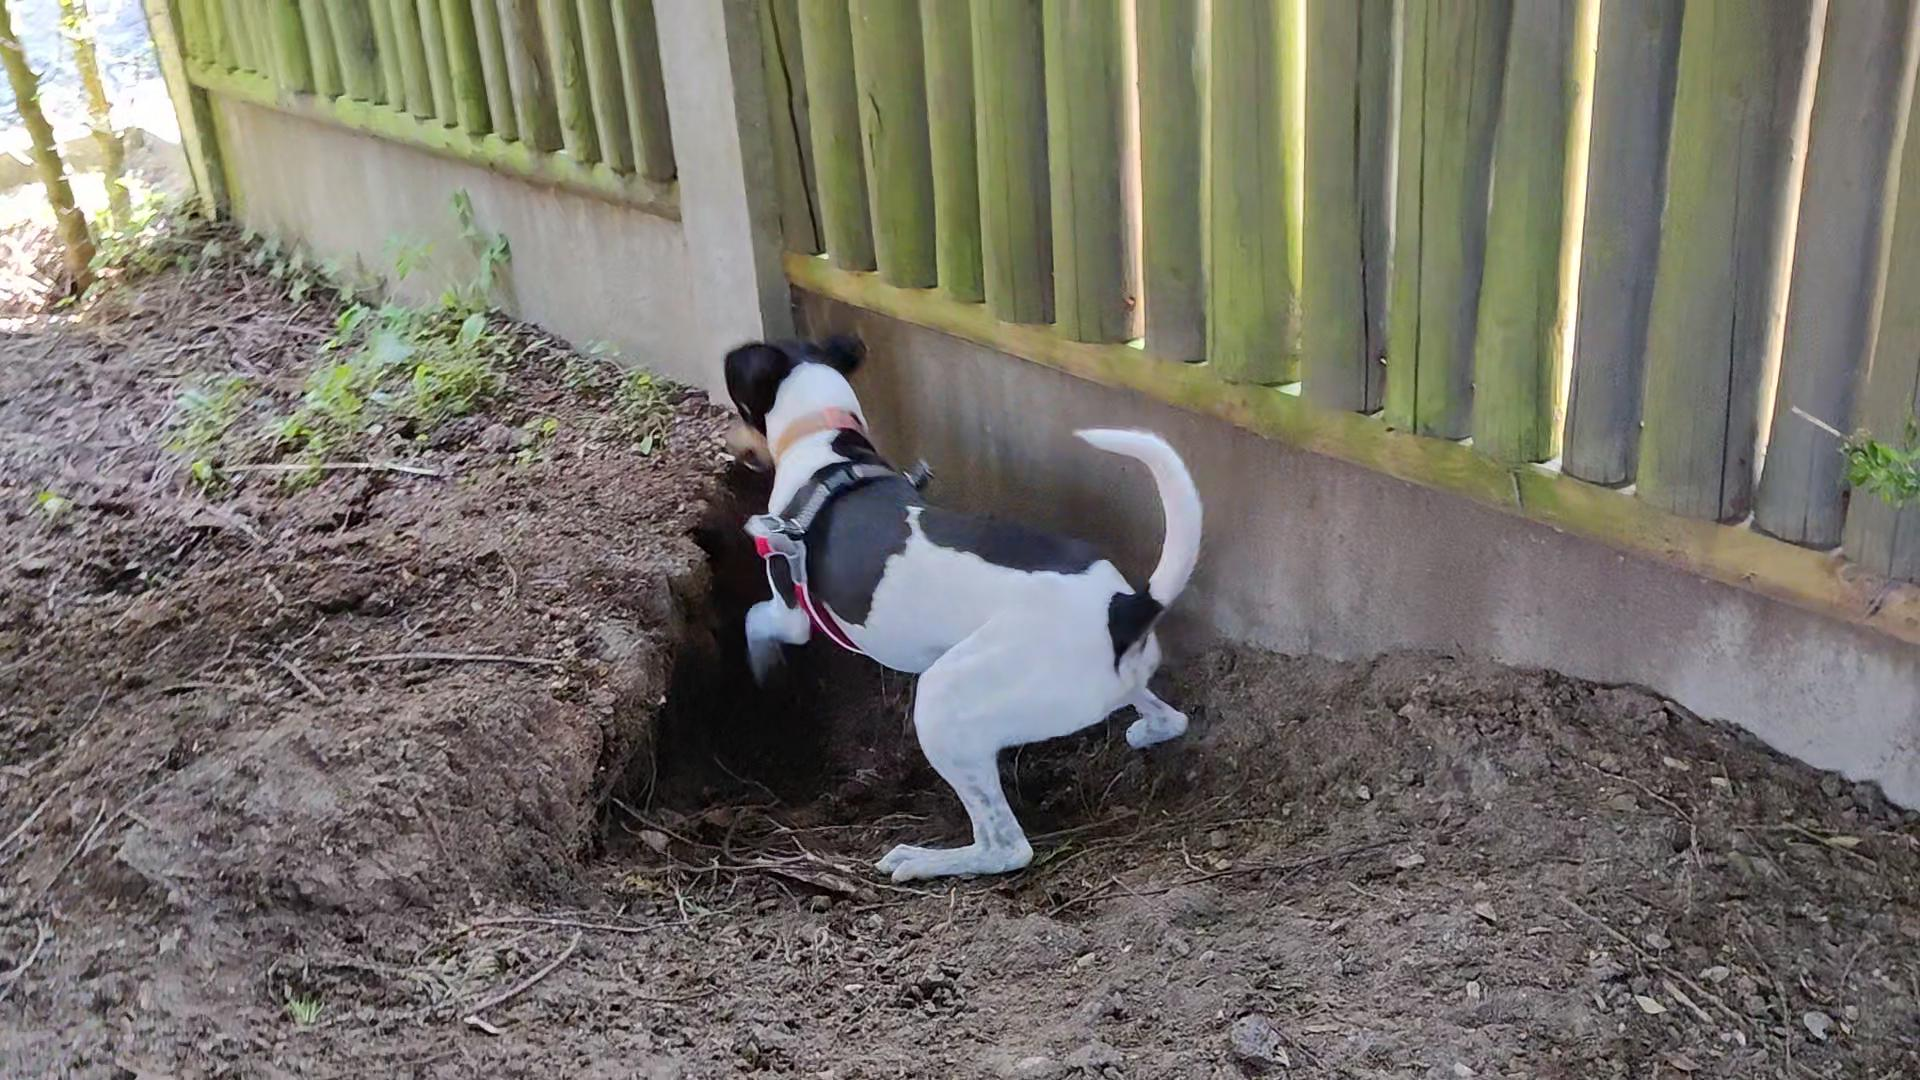Dog: (709, 305, 1226, 885)
